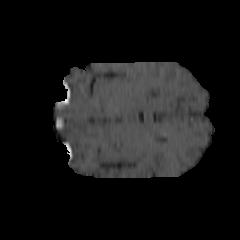glioma: (102, 113, 162, 162)
